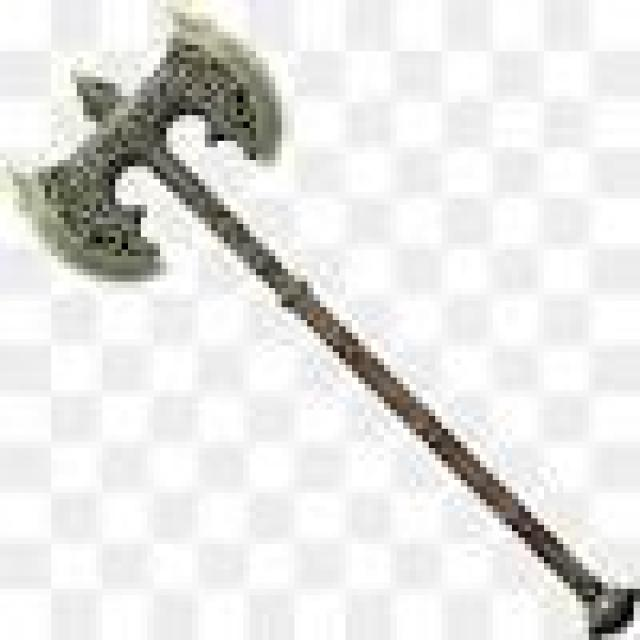Gun: (9, 19, 640, 640)
